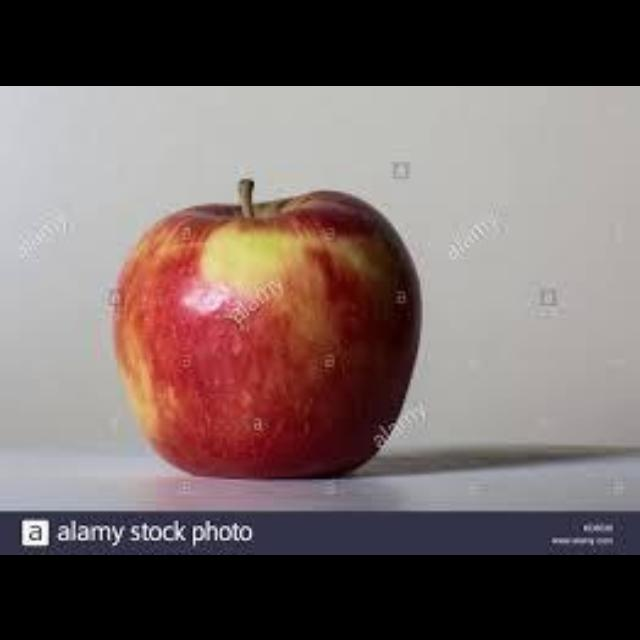apple: (112, 175, 420, 476)
